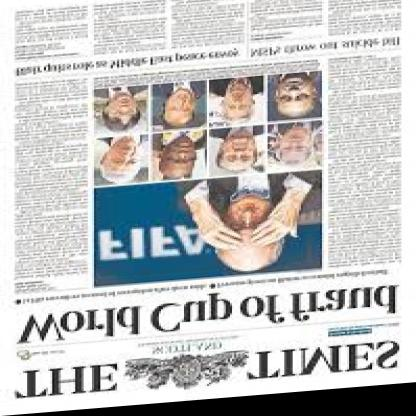Paper: (2, 0, 416, 405)
